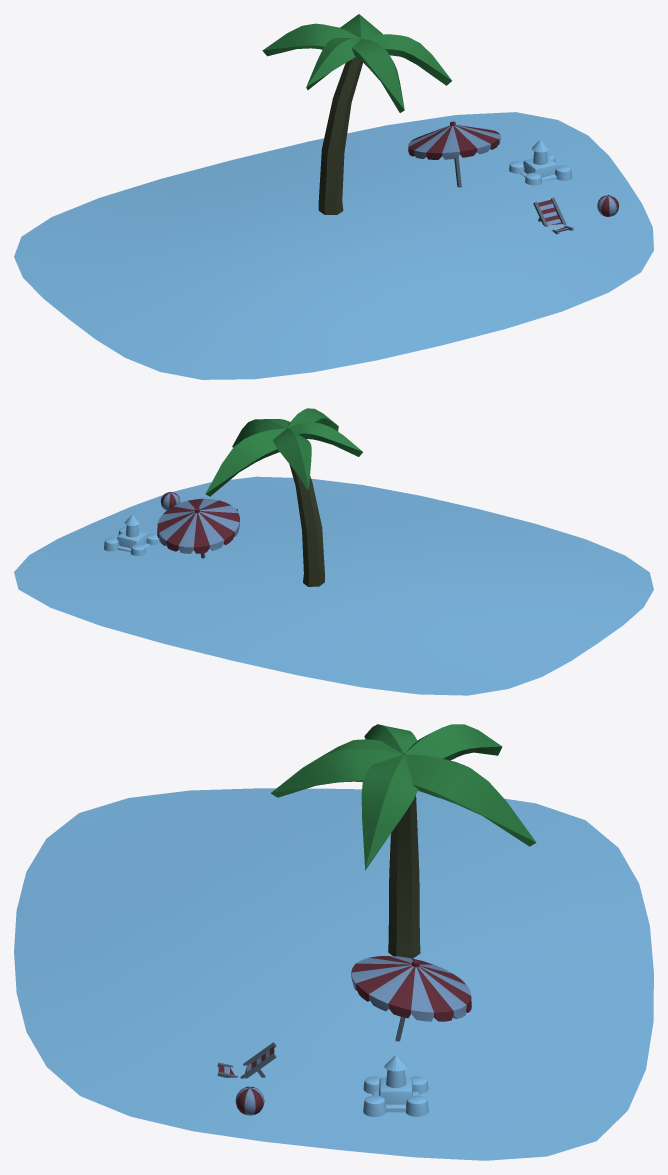
File: Props.fbx
3 views of the same model, one above another, from view 1: azimuth 30°, elevation 25°; view 2: azimuth 150°, elevation 25°; view 3: azimuth 270°, elevation 25° (orthographic). The views are drawn at different scales.
Parts seen in each view (by area): view 1: Sand.001, Tree, Umbrella, Sandcastle, Chair; view 2: Sand.001, Tree, Umbrella, Sandcastle; view 3: Sand.001, Tree, Umbrella, Sandcastle, Chair, Ball.
Boxes of the visible parts, left/top/right/bottom form: Sand.001: left=14, top=112, right=653, bottom=379; Tree: left=262, top=14, right=451, bottom=214; Umbrella: left=408, top=121, right=500, bottom=187; Sandcastle: left=509, top=140, right=572, bottom=185; Chair: left=533, top=197, right=573, bottom=234; Sand.001: left=14, top=476, right=653, bottom=695; Tree: left=205, top=408, right=362, bottom=586; Umbrella: left=157, top=498, right=239, bottom=558; Sandcastle: left=103, top=515, right=159, bottom=555; Sand.001: left=14, top=788, right=653, bottom=1160; Tree: left=271, top=724, right=536, bottom=958; Umbrella: left=351, top=956, right=471, bottom=1041; Sandcastle: left=363, top=1055, right=428, bottom=1116; Chair: left=217, top=1042, right=276, bottom=1078; Ball: left=235, top=1086, right=264, bottom=1115.
Size of the model in its own units: 3102 by 1026 by 2253.
